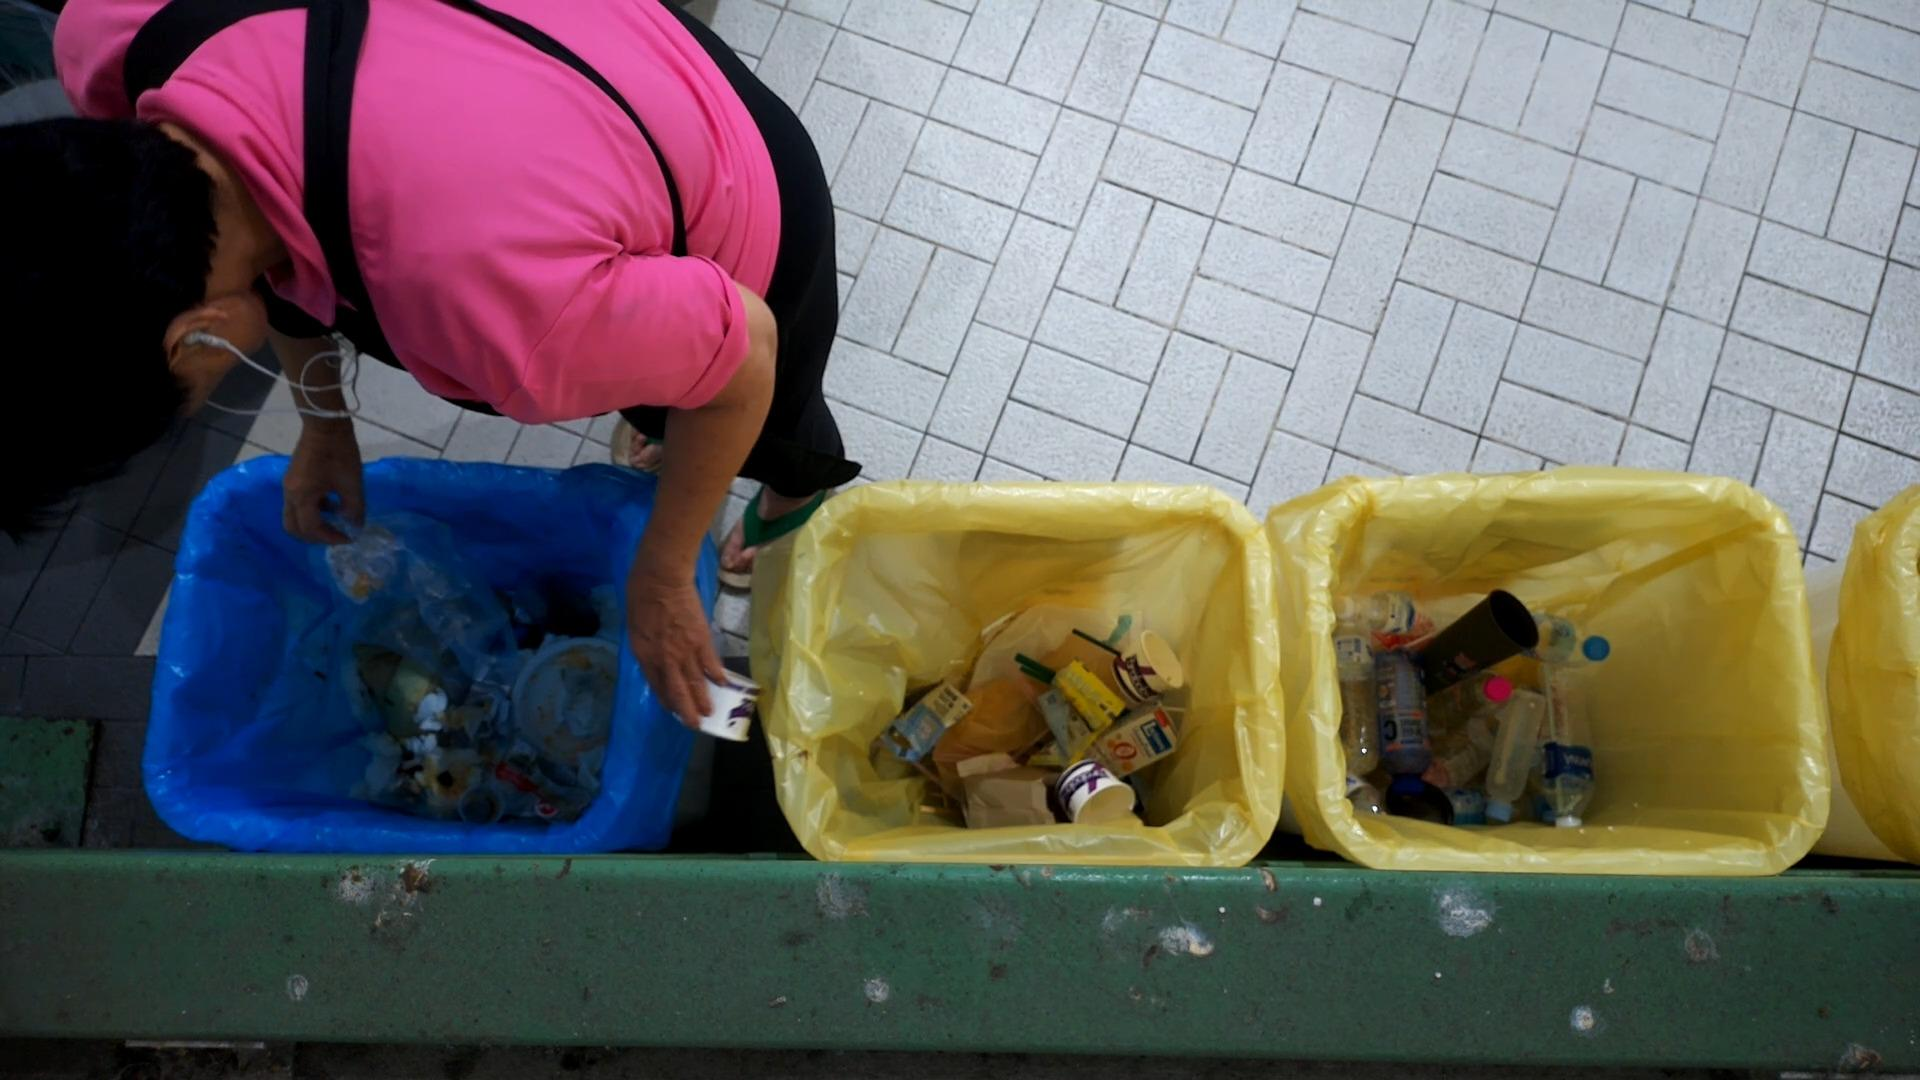dirty food container: (513, 626, 630, 771), (452, 778, 510, 828)
food container: (669, 655, 769, 748), (1106, 626, 1191, 711), (1051, 757, 1141, 829)
milk carton: (1069, 683, 1179, 782), (881, 676, 973, 774), (1031, 686, 1092, 765)
paper bag: (931, 761, 1058, 831)
plastic bag: (323, 510, 510, 684), (963, 596, 1154, 695)
plastic bottle: (1531, 647, 1600, 832), (1332, 611, 1387, 785), (1371, 647, 1435, 796), (1482, 684, 1545, 825), (1333, 582, 1464, 644), (1520, 607, 1615, 671)
plastic cup: (1416, 584, 1545, 703), (1375, 775, 1460, 829)
straw: (1539, 655, 1598, 819), (1005, 646, 1137, 713), (1075, 625, 1125, 658), (1155, 700, 1187, 713)
tissue paper: (400, 687, 448, 760), (334, 651, 373, 721), (568, 740, 615, 796), (952, 748, 1025, 774)
